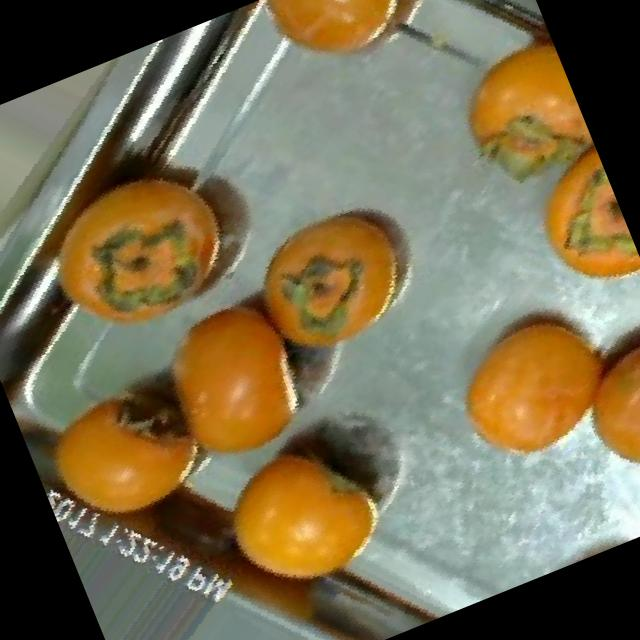Fruit: (112, 255, 364, 501), (183, 393, 438, 630), (215, 162, 462, 390), (415, 269, 640, 503), (421, 22, 604, 217), (234, 0, 476, 113), (500, 134, 640, 316), (536, 304, 640, 513)
